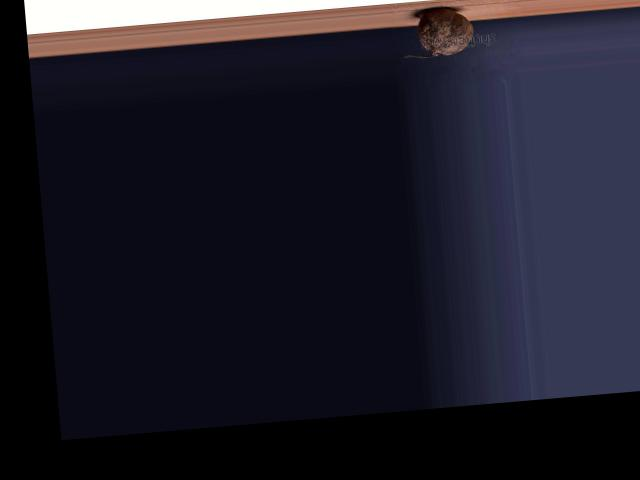beet: (398, 5, 474, 59)
